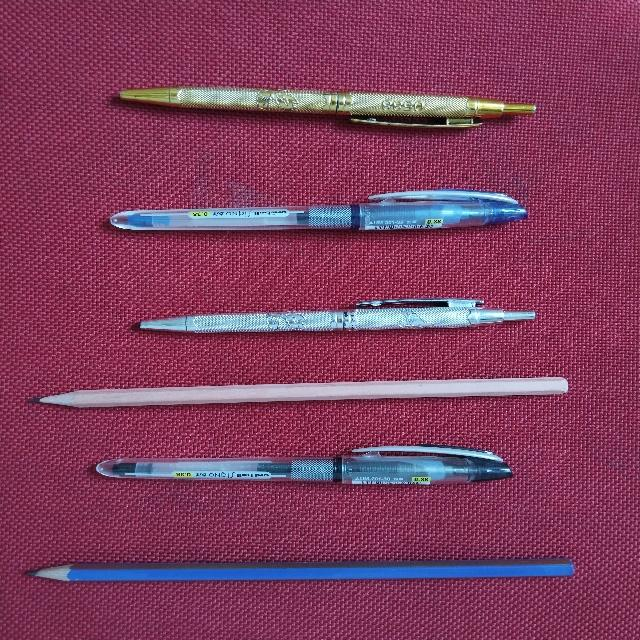pen: (111, 189, 526, 230), (97, 445, 511, 484)
pencil: (31, 377, 567, 407), (29, 558, 573, 581)
signature pen: (120, 87, 535, 128), (139, 298, 534, 332)
